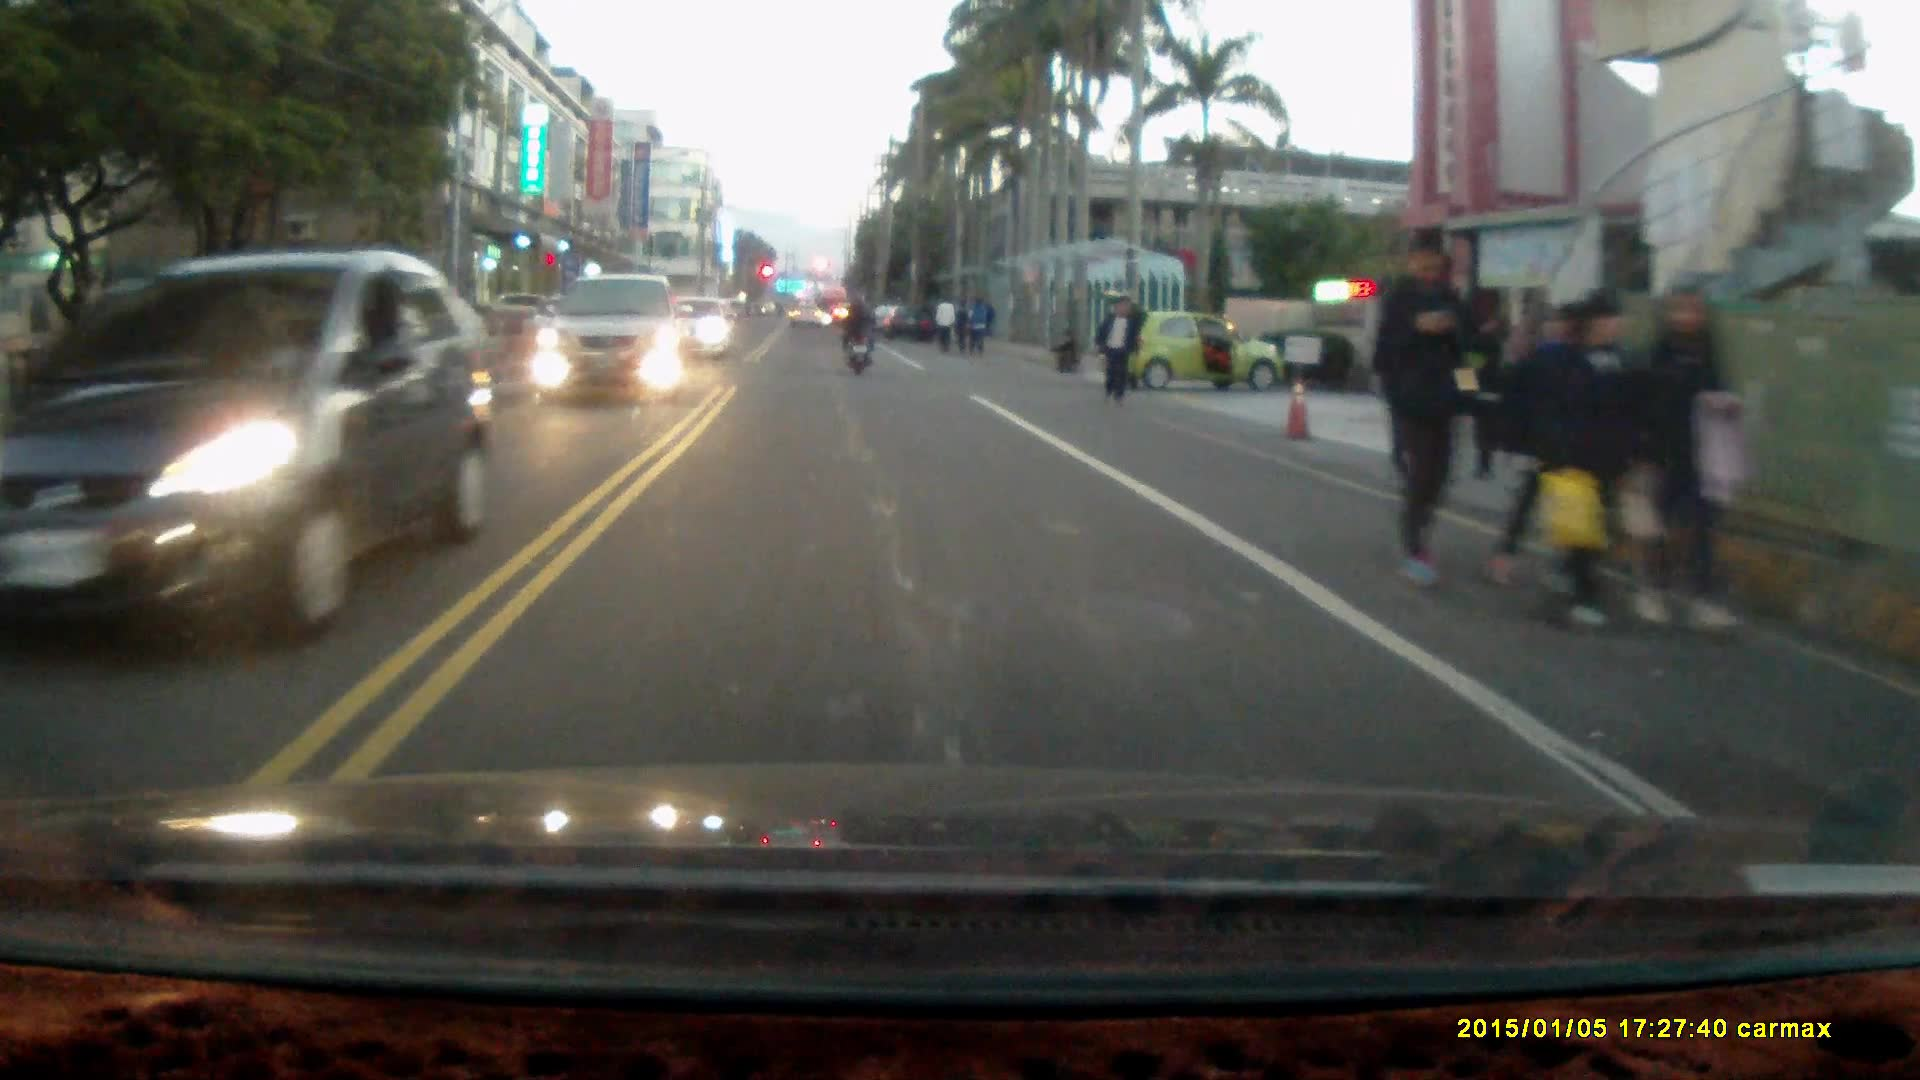pedestrian: (1518, 283, 1640, 632), (1372, 229, 1480, 591), (1631, 285, 1740, 635), (1462, 305, 1506, 483), (1091, 294, 1137, 408), (1049, 323, 1082, 375), (963, 291, 989, 355), (934, 287, 956, 352)
rider: (837, 290, 877, 374)
vehicle: (6, 245, 515, 631), (535, 272, 691, 397), (1098, 291, 1281, 393), (653, 293, 739, 358)
